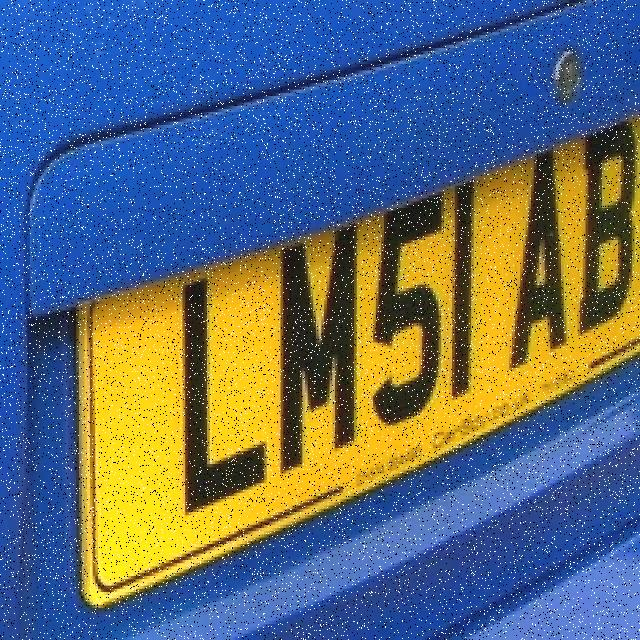licenseplate: (62, 131, 640, 524)
